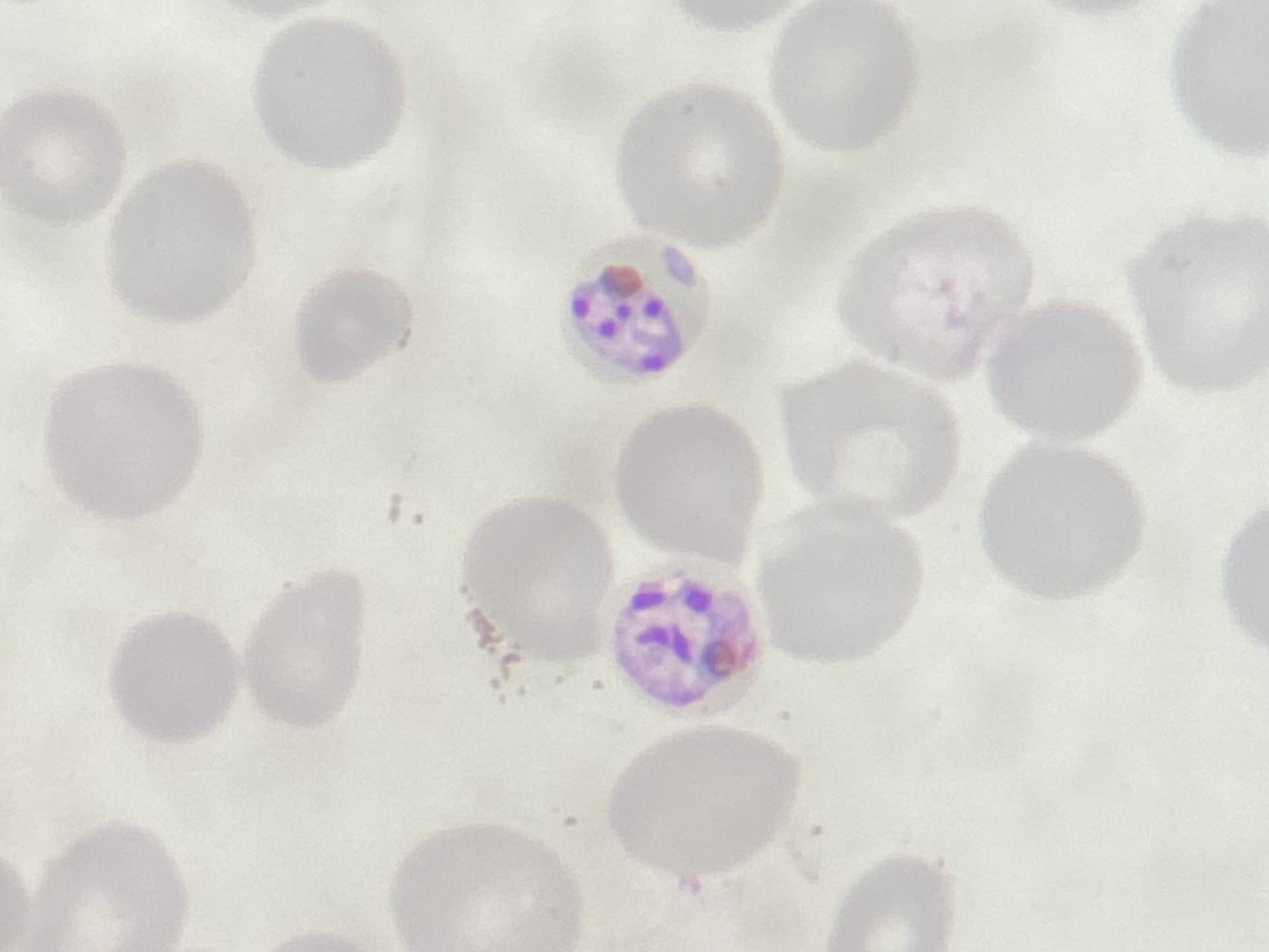Infected: (509, 232, 659, 389), (566, 556, 709, 717)
Uninfected: (238, 567, 429, 748), (306, 435, 495, 604), (484, 708, 656, 870), (1068, 426, 1233, 594), (121, 353, 289, 514), (476, 80, 674, 213), (650, 289, 810, 451), (1009, 620, 1160, 789), (344, 289, 515, 438), (892, 225, 1036, 395), (0, 558, 131, 740), (696, 0, 876, 131), (346, 800, 498, 952), (863, 771, 1000, 933), (511, 391, 649, 547), (1081, 0, 1238, 131), (130, 507, 276, 645), (1141, 721, 1269, 862), (1026, 197, 1149, 335), (861, 571, 976, 685)
